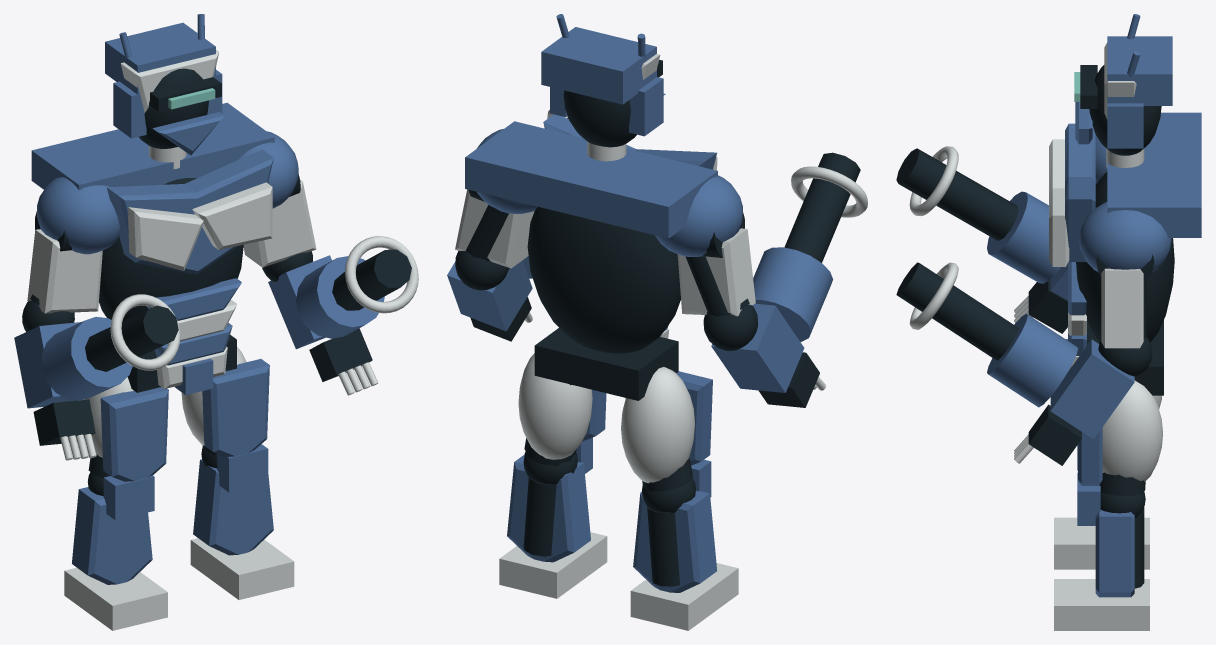
Rendered from robot-sentry.glb.
3 views of the same model, side by side, from view 1: azimuth 30°, elevation 25°; view 2: azimuth 150°, elevation 25°; view 3: azimuth 270°, elevation 25° (orthographic). The views are drawn at different scales.
Visible parts, largest first — view 1: torso, leg-left, leg-right, weapon (×2), head, arm-left, elbow-left, elbow-right, arm-right; view 2: torso, leg-left, leg-right, head, weapon, arm-left, elbow-left, elbow-right, arm-right; view 3: weapon (×2), torso, leg-right, head, arm-right, elbow-right, leg-left, elbow-left, arm-left.
Part boxes in pixels (x1,y1,x2,y2): torso: [31, 102, 274, 394]; leg-left: [64, 377, 168, 630]; leg-right: [181, 347, 294, 599]; weapon (×2): [41, 236, 418, 400]; head: [105, 14, 224, 168]; arm-left: [27, 177, 120, 313]; elbow-left: [14, 300, 96, 460]; elbow-right: [262, 251, 378, 395]; arm-right: [238, 131, 316, 267]; torso: [465, 114, 717, 400]; leg-left: [621, 367, 738, 630]; leg-right: [499, 353, 607, 598]; head: [541, 14, 665, 161]; weapon: [753, 152, 867, 341]; arm-left: [655, 175, 755, 316]; elbow-left: [703, 303, 825, 407]; elbow-right: [447, 251, 532, 341]; arm-right: [455, 129, 537, 268]; weapon (×2): [896, 146, 1077, 407]; torso: [1049, 112, 1201, 395]; leg-right: [1054, 380, 1162, 630]; head: [1074, 14, 1172, 168]; arm-right: [1079, 202, 1171, 348]; elbow-right: [1014, 337, 1152, 465]; leg-left: [1054, 395, 1161, 569]; elbow-left: [1014, 263, 1067, 333]; arm-left: [1095, 135, 1107, 184].
Bounding box in the file's own units: 2.53 × 4.2 × 2.1.
